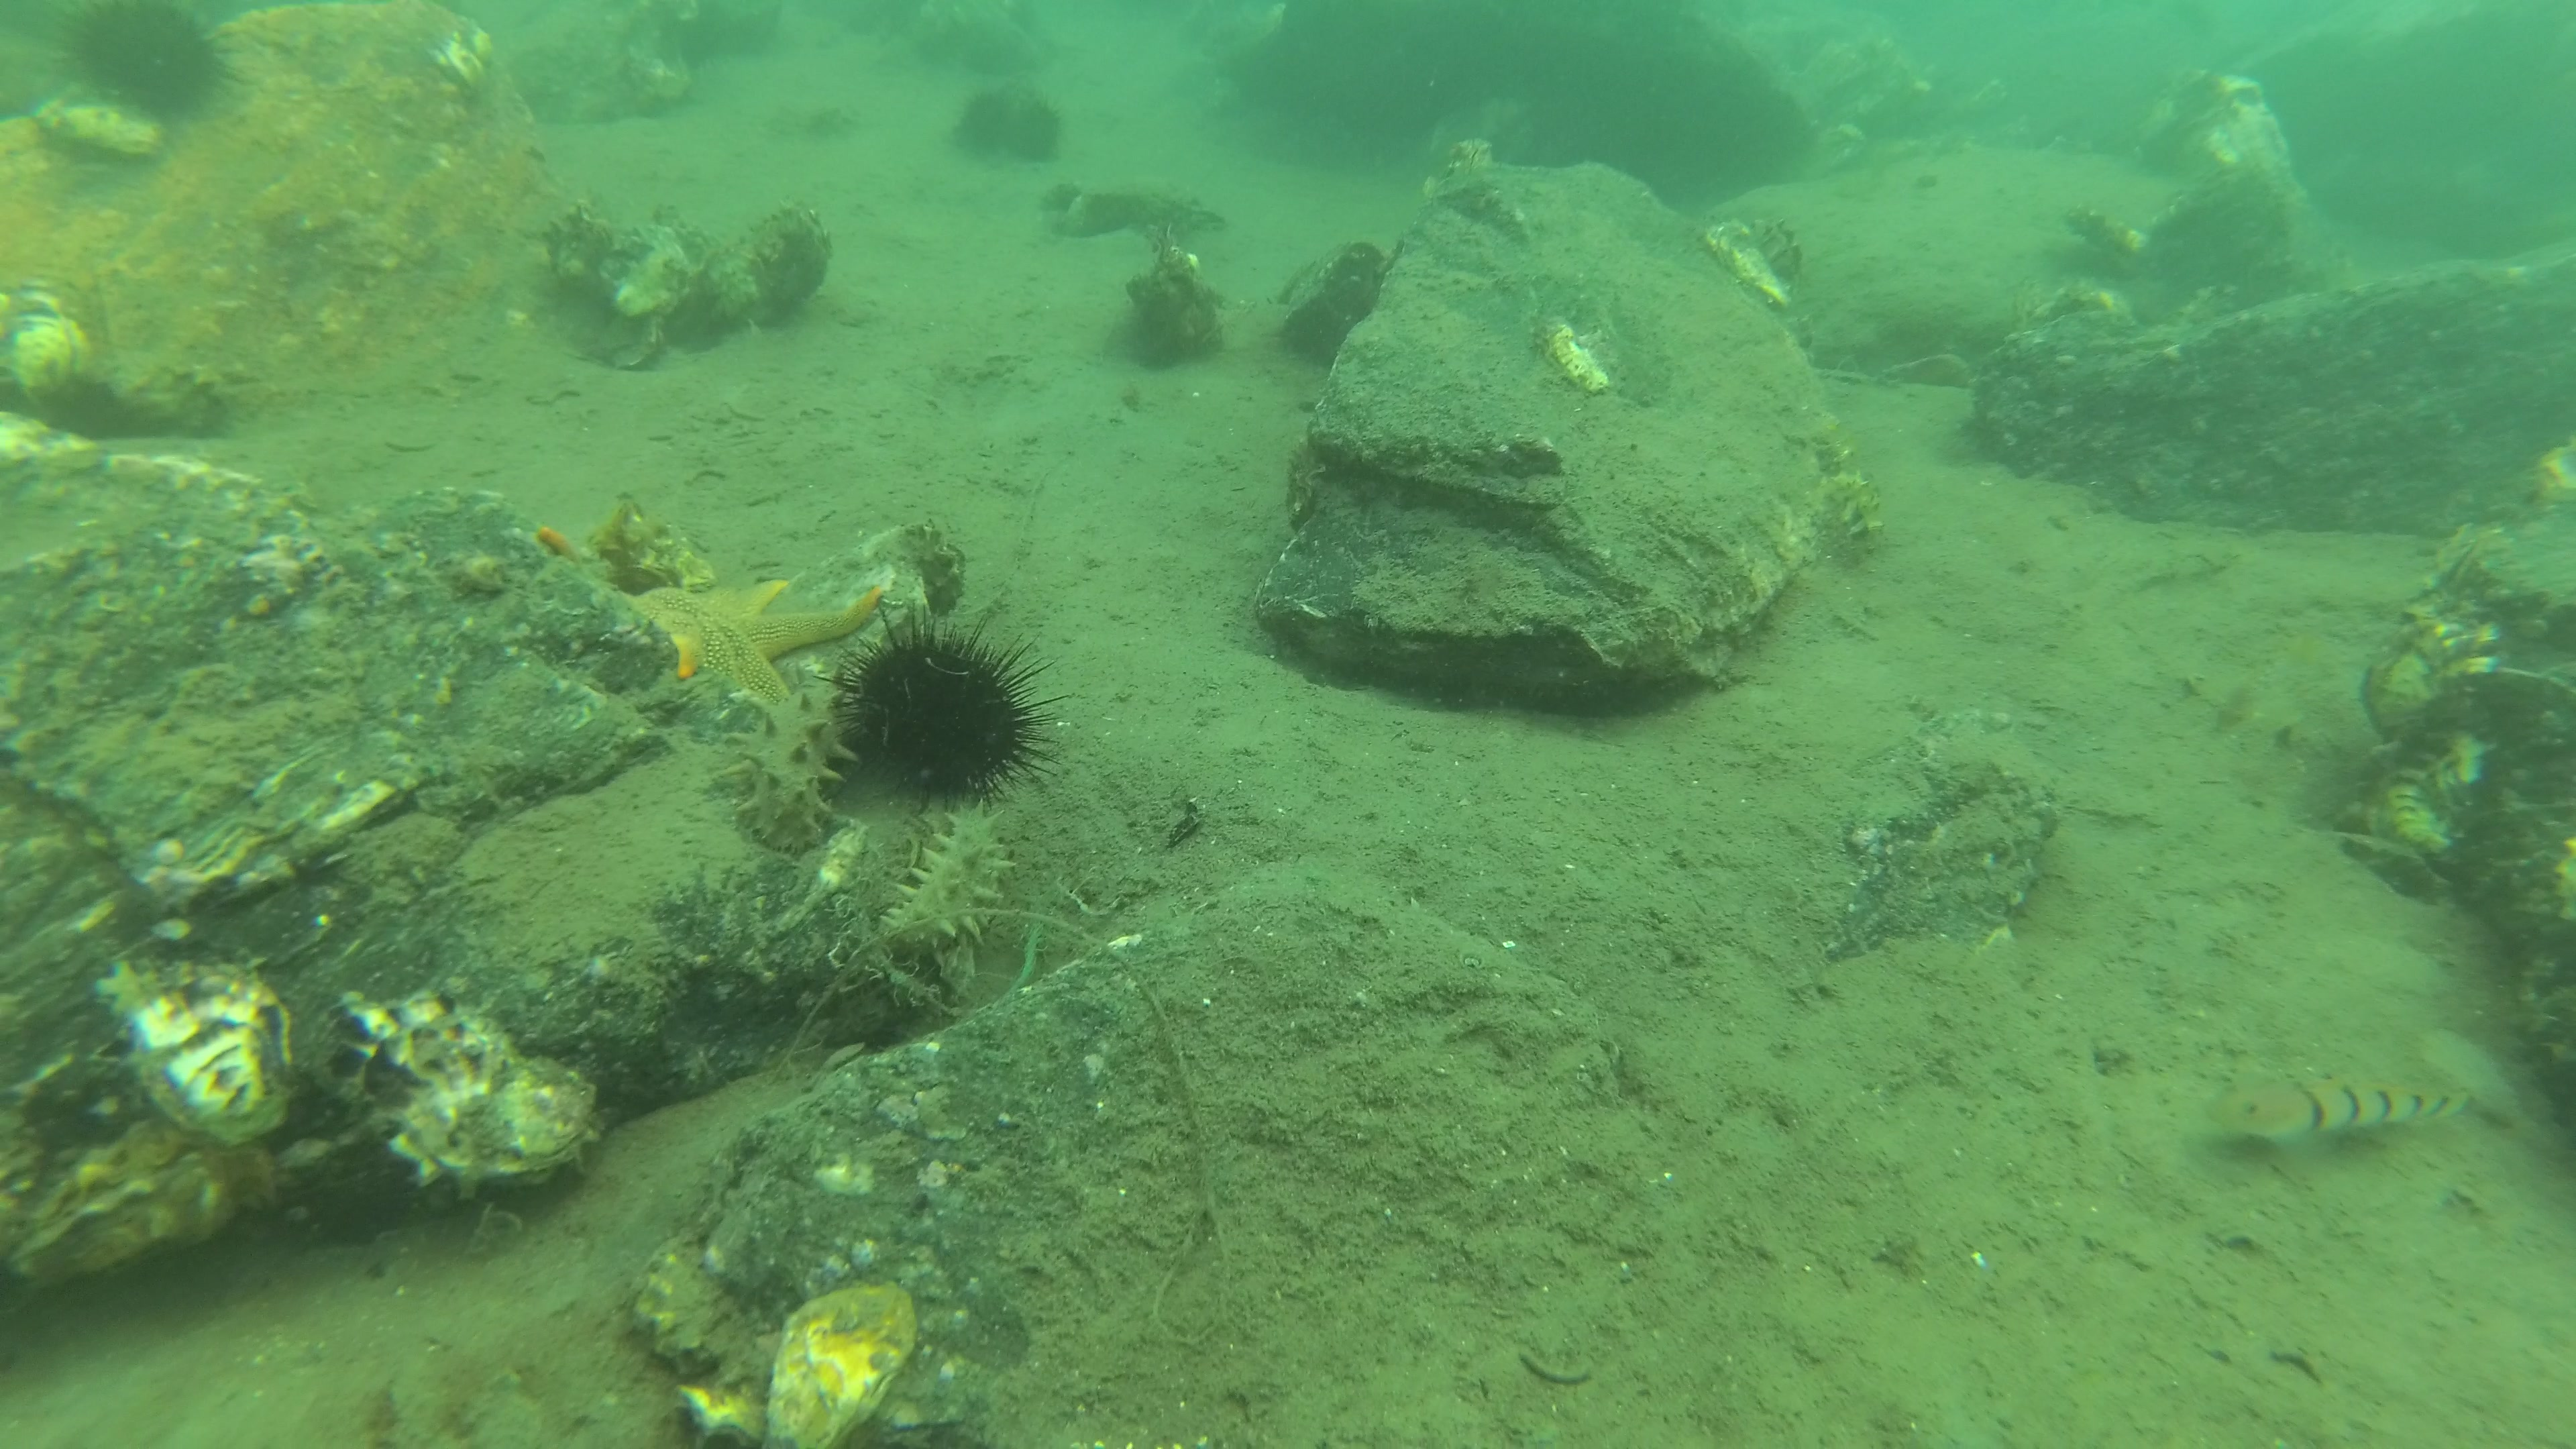echinus: (807, 586, 1074, 824)
holothurian: (858, 786, 1033, 973)
starfish: (534, 522, 893, 717)
